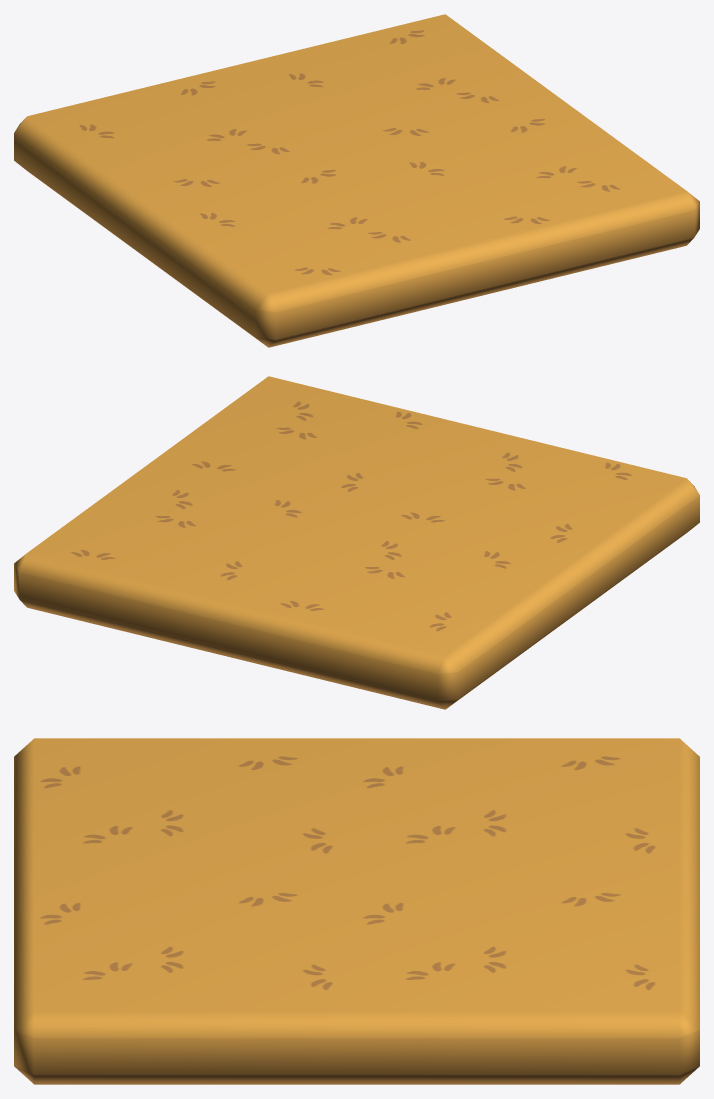
The model's file is grass_top_4x4.fbx.
The picture shows the model from 3 angles, top to bottom: view 1: azimuth 30°, elevation 25°; view 2: azimuth 150°, elevation 25°; view 3: azimuth 270°, elevation 25°; orthographic projection. The views are drawn at different scales.
Visible parts, largest first — view 1: grass_top_4x4; view 2: grass_top_4x4; view 3: grass_top_4x4.
Part boxes in pixels (bbox=[...]): grass_top_4x4: bbox=[14, 14, 699, 347]; grass_top_4x4: bbox=[14, 376, 699, 709]; grass_top_4x4: bbox=[14, 738, 699, 1084].
Size of the model in its own units: 425 by 50 by 425.
Materials: 1 (1 with a texture image).
